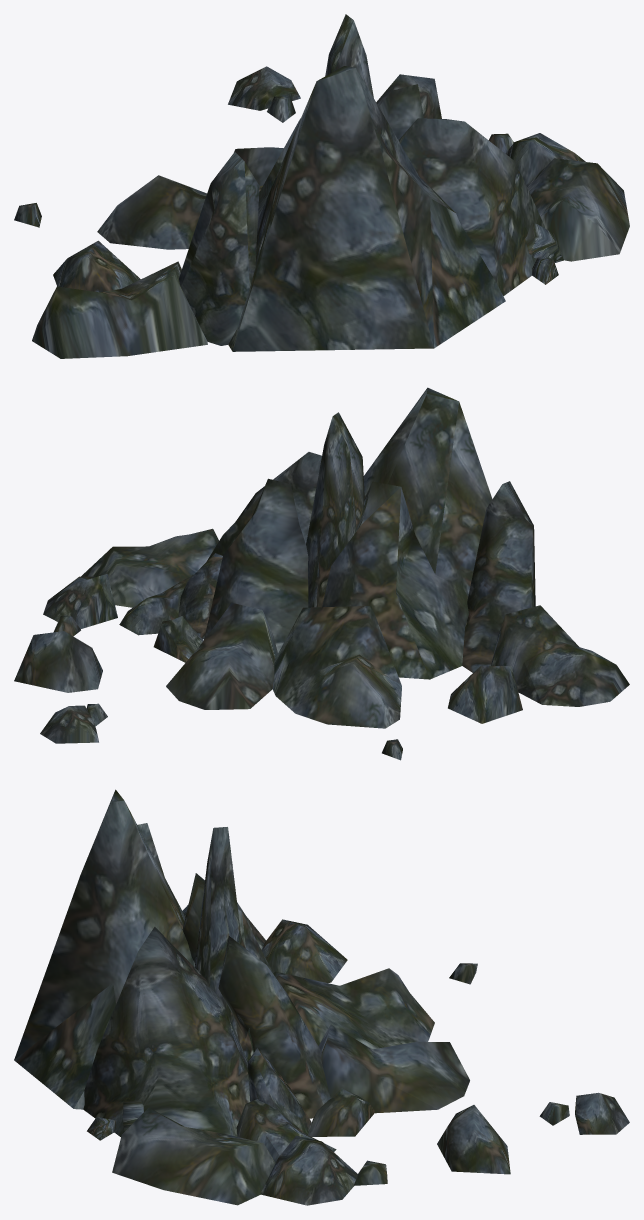
The model's file is kqzd_shitoudui.FBX.
The picture shows the model from 3 angles, top to bottom: view 1: azimuth 30°, elevation 25°; view 2: azimuth 150°, elevation 25°; view 3: azimuth 270°, elevation 25°; orthographic projection. The views are drawn at different scales.
Visible parts, largest first — view 1: kqzd_shitoudui; view 2: kqzd_shitoudui; view 3: kqzd_shitoudui.
Part boxes in pixels (x1,y1,x2,y2): kqzd_shitoudui: (14,14,629,358); kqzd_shitoudui: (14,387,629,760); kqzd_shitoudui: (14,789,629,1205).
Bounding box in the file's own units: 968 × 882 × 387.
